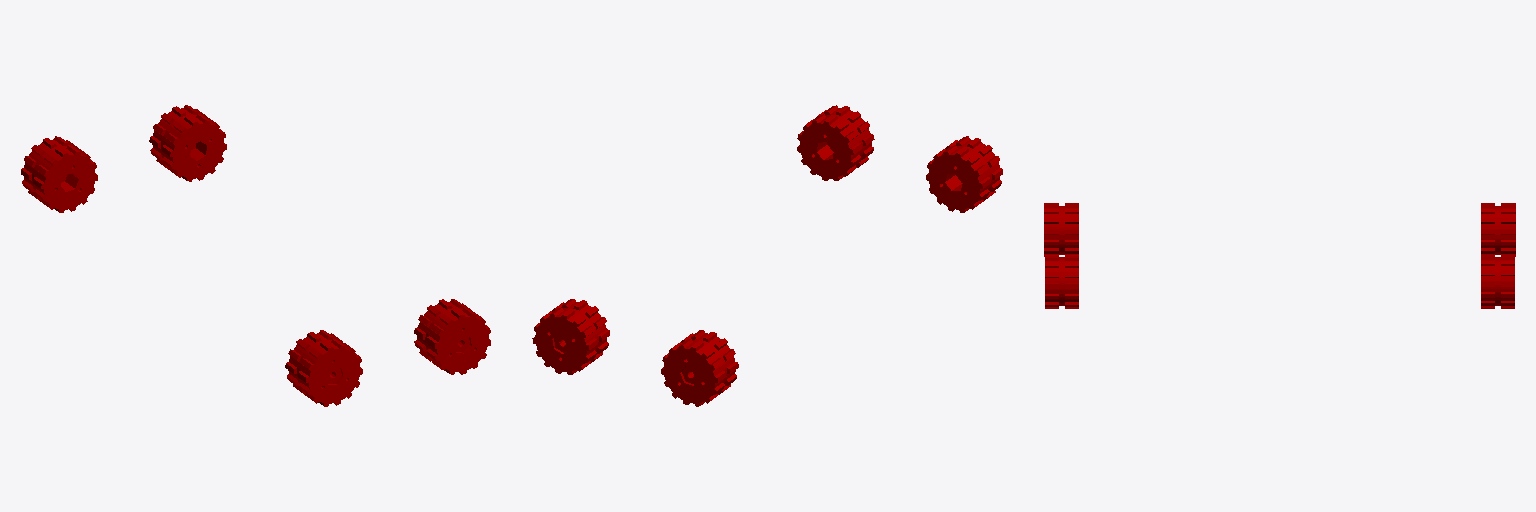
URDF robot description (exec_x):
<?xml version="1.0" encoding="utf-8"?>
<!-- This URDF was automatically created by SolidWorks to URDF Exporter! Originally created by [author] ([email redacted]) 
     Commit Version: 1.6.0-4-g7f85cfe  Build Version: 1.6.7995.38578
     For more information, please see http://wiki.ros.org/sw_urdf_exporter -->
<robot
  name="exec_x">
  <link
    name="base_link">
    <inertial>
      <origin
        xyz="0.0202165782712568 0.0269617445598185 -0.000306434428195451"
        rpy="0 0 0" />
      <mass
        value="0.572567227319021" />
      <inertia
        ixx="0.0060819717584304"
        ixy="-7.16739657840171E-05"
        ixz="1.73398489453738E-05"
        iyy="0.0103930693210033"
        iyz="6.77394497102191E-06"
        izz="0.00456894079490745" />
    </inertial>
    <visual>
      <origin
        xyz="0 0 0"
        rpy="0 0 0" />
      <geometry>
        <mesh
          filename="package://exec_x/meshes/base_link.STL" />
      </geometry>
      <material
        name="">
        <color
          rgba="0.635294117647059 0.635294117647059 0.635294117647059 1" />
      </material>
    </visual>
    <collision>
      <origin
        xyz="0 0 0"
        rpy="0 0 0" />
      <geometry>
        <mesh
          filename="package://exec_x/meshes/base_link.STL" />
      </geometry>
    </collision>
  </link>
  <link
    name="FR_link">
    <inertial>
      <origin
        xyz="2.77555756156289E-16 -4.71844785465692E-16 0.0142359163867279"
        rpy="0 0 0" />
      <mass
        value="0.0353051740660459" />
      <inertia
        ixx="6.45007391370766E-06"
        ixy="-1.37642853928824E-21"
        ixz="-2.71793958538617E-20"
        iyy="6.45007391370766E-06"
        iyz="7.23535406288491E-22"
        izz="8.25699382219762E-06" />
    </inertial>
    <visual>
      <origin
        xyz="0 0 0"
        rpy="0 0 0" />
      <geometry>
        <mesh
          filename="package://exec_x/meshes/FR_link.STL" />
      </geometry>
      <material
        name="">
        <color
          rgba="0.698039215686274 0 0 1" />
      </material>
    </visual>
    <collision>
      <origin
        xyz="0 0 0"
        rpy="0 0 0" />
      <geometry>
        <mesh
          filename="package://exec_x/meshes/FR_link.STL" />
      </geometry>
    </collision>
  </link>

  <joint
    name="FR_joint"
    type="continuous">
    <origin
      xyz="0.01 -0.164 0.015"
      rpy="1.5708 0.18712 0" />
    <parent
      link="base_link" />
    <child
      link="FR_link" />
    <axis
      xyz="0 0 1" />
  </joint>

  <link
    name="RR_link">
    <inertial>
      <origin
        xyz="3.05311331771918E-16 -4.91794105439425E-16 0.0142359163867279"
        rpy="0 0 0" />
      <mass
        value="0.0353051740660459" />
      <inertia
        ixx="6.45007391370766E-06"
        ixy="-2.69991751937308E-21"
        ixz="-1.66066464657482E-20"
        iyy="6.45007391370767E-06"
        iyz="-1.05690837343578E-21"
        izz="8.25699382219762E-06" />
    </inertial>
    <visual>
      <origin
        xyz="0 0 0"
        rpy="0 0 0" />
      <geometry>
        <mesh
          filename="package://exec_x/meshes/RR_link.STL" />
      </geometry>
      <material
        name="">
        <color
          rgba="0.698039215686274 0 0 1" />
      </material>
    </visual>
    <collision>
      <origin
        xyz="0 0 0"
        rpy="0 0 0" />
      <geometry>
        <mesh
          filename="package://exec_x/meshes/RR_link.STL" />
      </geometry>
    </collision>
  </link>

  <joint
    name="RR_joint"
    type="continuous">
    <origin
      xyz="-0.09 -0.1643 0.015"
      rpy="1.5708 0.082421 0" />
    <parent
      link="base_link" />
    <child
      link="RR_link" />
    <axis
      xyz="0 0 1" />
  </joint>

  <link
    name="FL_link">
    <inertial>
      <origin
        xyz="6.93889390390723E-16 -5.13478148889135E-16 0.0142359163867279"
        rpy="0 0 0" />
      <mass
        value="0.0353051740660459" />
      <inertia
        ixx="6.45007391370766E-06"
        ixy="-1.90582413132223E-21"
        ixz="-2.06954852347706E-20"
        iyy="6.45007391370766E-06"
        iyz="2.99890769790968E-21"
        izz="8.25699382219762E-06" />
    </inertial>
    <visual>
      <origin
        xyz="0 0 0"
        rpy="0 0 0" />
      <geometry>
        <mesh
          filename="package://exec_x/meshes/FL_link.STL" />
      </geometry>
      <material
        name="">
        <color
          rgba="0.698039215686274 0 0 1" />
      </material>
    </visual>
    <collision>
      <origin
        xyz="0 0 0"
        rpy="0 0 0" />
      <geometry>
        <mesh
          filename="package://exec_x/meshes/FL_link.STL" />
      </geometry>
    </collision>
  </link>

  <joint
    name="FL_joint"
    type="continuous">
    <origin
      xyz="0.01 0.164 0.015"
      rpy="1.5708 1.2344 -3.1416" />
    <parent
      link="base_link" />
    <child
      link="FL_link" />
    <axis
      xyz="0 0 1" />
  </joint>

  <link
    name="RL_link">
    <inertial>
      <origin
        xyz="3.60822483003176E-16 -4.55364912443912E-16 0.0142359163867282"
        rpy="0 0 0" />
      <mass
        value="0.0353051740660459" />
      <inertia
        ixx="6.45007391370766E-06"
        ixy="-2.85873619698326E-21"
        ixz="-4.43243350252555E-21"
        iyy="6.45007391370767E-06"
        iyz="6.71482438376624E-21"
        izz="8.25699382219762E-06" />
    </inertial>
    <visual>
      <origin
        xyz="0 0 0"
        rpy="0 0 0" />
      <geometry>
        <mesh
          filename="package://exec_x/meshes/RL_link.STL" />
      </geometry>
      <material
        name="">
        <color
          rgba="0.698039215686274 0 0 1" />
      </material>
    </visual>
    <collision>
      <origin
        xyz="0 0 0"
        rpy="0 0 0" />
      <geometry>
        <mesh
          filename="package://exec_x/meshes/RL_link.STL" />
      </geometry>
    </collision>
  </link>

  <joint
    name="RL_joint"
    type="continuous">
    <origin
      xyz="-0.09 0.1643 0.015"
      rpy="1.5708 -0.082421 3.1416" />
    <parent
      link="base_link" />
    <child
      link="RL_link" />
    <axis
      xyz="0 0 1" />
  </joint>

  	<link name="laser_link">
    <inertial>
      <origin
        xyz="-0.017309 -0.00039036 0.5"
        rpy="0 0 0" />
      <mass
        value="0.047631" />
      <inertia
        ixx="1.1805E-05"
        ixy="1.2065E-21"
        ixz="-3.5764E-21"
        iyy="1.061E-05"
        iyz="-8.9479E-22"
        izz="1.0463E-05" />
    </inertial>
    <visual>
      <origin
        xyz="0 0 0"
        rpy="0 0 0" />
      <geometry>
        <mesh
          filename="package://exec/mesh/rp_lidar_meshmixer.STL" />
      </geometry>
      <material
        name="">
        <color
          rgba="0.7451 0.7451 0.7451 1" />
      </material>
    </visual>
        <collision>
      <origin
        xyz="0 0 0"
        rpy="0 0 0" />
      <geometry>
        <mesh
          filename="package://exec/mesh/rp_lidar_meshmixer.STL" />
      </geometry>
    </collision>
  </link>
  
  <joint name="laser_joint" type="fixed">
    <origin xyz="-0.13309 -0.00039036 0.8999" rpy="0 0 0" />
    <parent link="base_link"/>
    <child link="laser_link" />
  </joint>
  <gazebo reference="laser_link">
    <material>Gazebo/Blue</material>
    <turnGravityOff>false</turnGravityOff>
    <sensor type="ray" name="laser_link">
      <pose>0 0 0 0 0 0</pose>
      <visualize>false</visualize>
      <update_rate>40</update_rate>
      <ray>
        <scan>
          <horizontal>
            <samples>720</samples>
            <resolution>1</resolution>
            <min_angle>-3.14</min_angle>
            <max_angle>3.14</max_angle>
          </horizontal>
        </scan>
        <range>
          <min>0.10</min>
          <max>12.0</max>
          <resolution>0.001</resolution>
        </range>
      </ray>
      
      <plugin name="lasser_sensor_plugin" filename="libgazebo_ros_laser.so">
        <topicName>/scan</topicName>
        <frameName>laser_link</frameName>
      </plugin>
    </sensor>
  </gazebo>

  	<gazebo>
  	<plugin name="differential_drive_controller" filename="libgazebo_ros_diff_drive.so">
	    <legacyMode>true</legacyMode>
	    <rosDebugLevel>Debug</rosDebugLevel>
	    <publishWheelTF>false</publishWheelTF>
	    <robotNamespace>/</robotNamespace>
	    <publishTf>1</publishTf>
	    <publishWheelJointState>false</publishWheelJointState>
	    <alwaysOn>true</alwaysOn>
	    <updateRate>100.0</updateRate>
	    <leftJoint>FL_joint</leftJoint>
	    <rightJoint>FR_joint</rightJoint>
	    <wheelSeparation>0.328</wheelSeparation>
	    <wheelDiameter>0.088</wheelDiameter>
	    <broadcastTF>1</broadcastTF>
	    <wheelTorque>30</wheelTorque>
	    <wheelAcceleration>1.8</wheelAcceleration>
	    <commandTopic>cmd_vel</commandTopic>
	    <odometryFrame>odom</odometryFrame> 
	    <odometryTopic>odom</odometryTopic> 
	    <robotBaseFrame>base_link</robotBaseFrame>
   </plugin>
  </gazebo> 

</robot>

--- What the picture shows (computed from the rendered views, not written in the file) ---
3 views of the same robot in one strip: view 1: azimuth 30°, elevation 25°; view 2: azimuth 150°, elevation 25°; view 3: azimuth 270°, elevation 25° (orthographic).
Robot: exec_x — 6 links, 5 joints (4 continuous, 1 fixed); root link base_link; default pose: every joint at zero.
Links seen in each view (by area): view 1: FR_link, FL_link, RR_link, RL_link; view 2: RL_link, FR_link, FL_link, RR_link; view 3: FR_link, FL_link, RR_link, RL_link.
Boxes of the visible links, x1,y1,x2,y2 form: FR_link: (414,299,490,374); FL_link: (149,105,226,181); RR_link: (285,330,362,406); RL_link: (21,136,97,212); RL_link: (661,330,738,406); FR_link: (797,105,874,180); FL_link: (532,299,609,374); RR_link: (926,136,1002,212); FR_link: (1045,255,1078,308); FL_link: (1481,255,1514,308); RR_link: (1044,203,1078,256); RL_link: (1481,203,1515,256).
Bounding box of the posed robot: 0.1444 × 0.3846 × 0.0444 m (x, y, z).
Meshes: 6 distinct files referenced, 4 mesh visuals loaded (4 binary STL); not drawn: 2 (reference not matched to a file when rendering).
